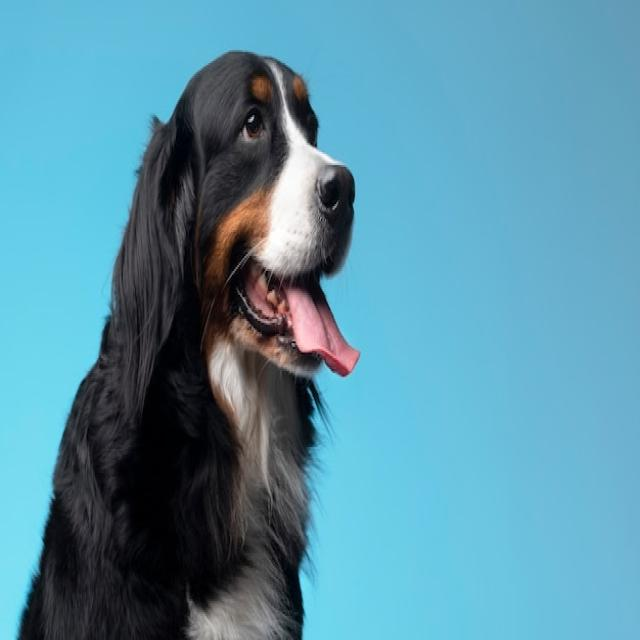Dog: (19, 46, 359, 640)
